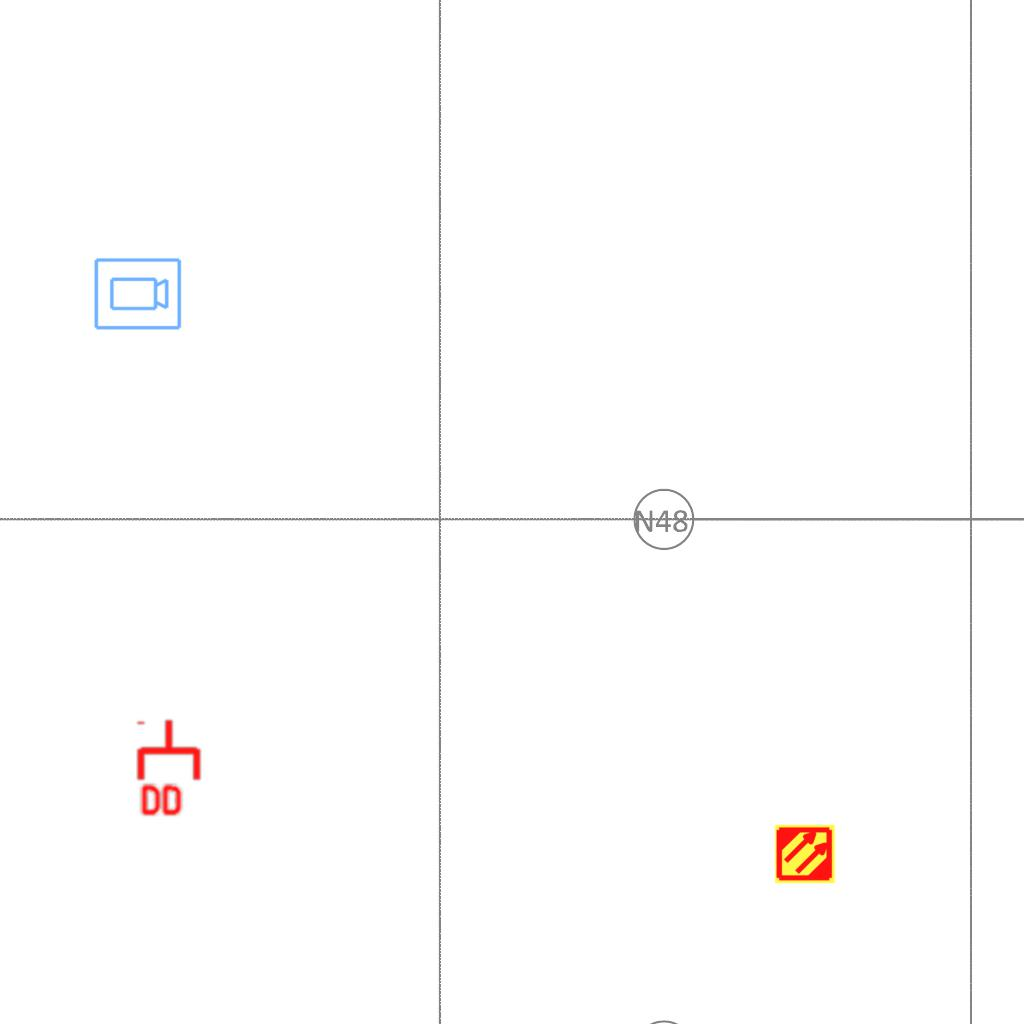ASR_Ansaugrauchmelder: (774, 823, 836, 885)
Datenanschluss_zweifach: (136, 717, 205, 820)
KFO_Kamera_mit_Festobjektiv: (92, 256, 183, 333)
